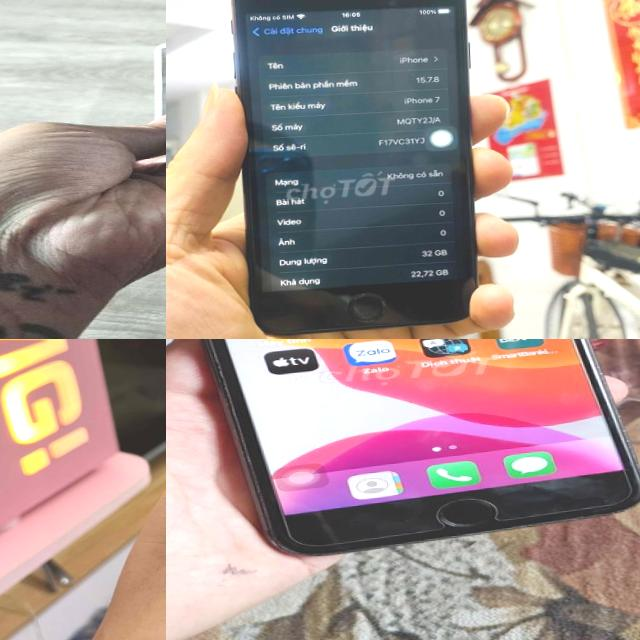gen_7_8: (201, 339, 640, 554), (221, 0, 488, 337)
